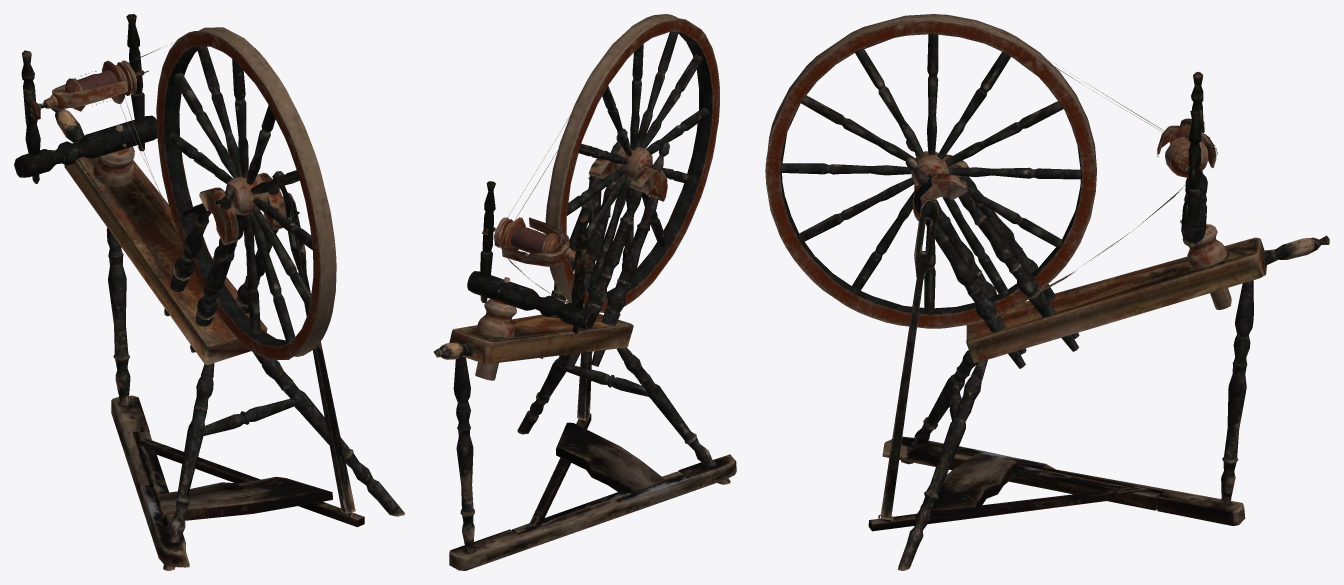
The model's file is spinning_wheel_01.1be6a8b7.glb.
The picture shows the model from 3 angles, left to right: view 1: azimuth 30°, elevation 25°; view 2: azimuth 150°, elevation 25°; view 3: azimuth 270°, elevation 25°; orthographic projection. The views are drawn at different scales.
Parts seen in each view (by area): view 1: spinning_wheel_01; view 2: spinning_wheel_01; view 3: spinning_wheel_01.
Part boxes in pixels (left/top/right/bottom): spinning_wheel_01: left=14, top=14, right=404, bottom=570; spinning_wheel_01: left=433, top=14, right=736, bottom=570; spinning_wheel_01: left=765, top=14, right=1329, bottom=570.
Size of the model in its own units: 0.3444 by 0.6796 by 0.72.
1 material, 1 textured.
